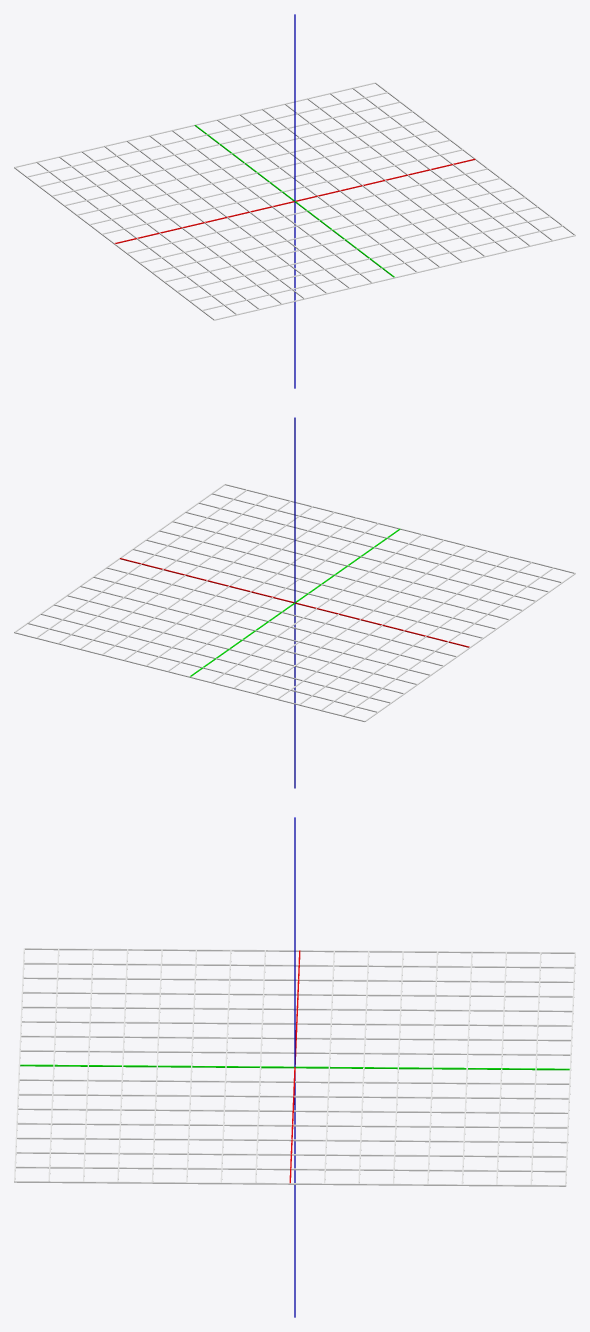
File: axis_and_grid.obj
The picture shows the model from 3 angles, top to bottom: view 1: azimuth 30°, elevation 25°; view 2: azimuth 150°, elevation 25°; view 3: azimuth 270°, elevation 25°; orthographic projection. The views are drawn at different scales.
Parts seen in each view (by area): view 1: Cube.030; view 2: Cube.030; view 3: Cube.030.
Part boxes in pixels (<box>): Cube.030: <box>14,14,575,388</box>; Cube.030: <box>14,417,575,788</box>; Cube.030: <box>14,817,575,1317</box>.
Size of the model in its own units: 16.32 by 16 by 16.32.
Materials: 1 (1 with a texture image).
